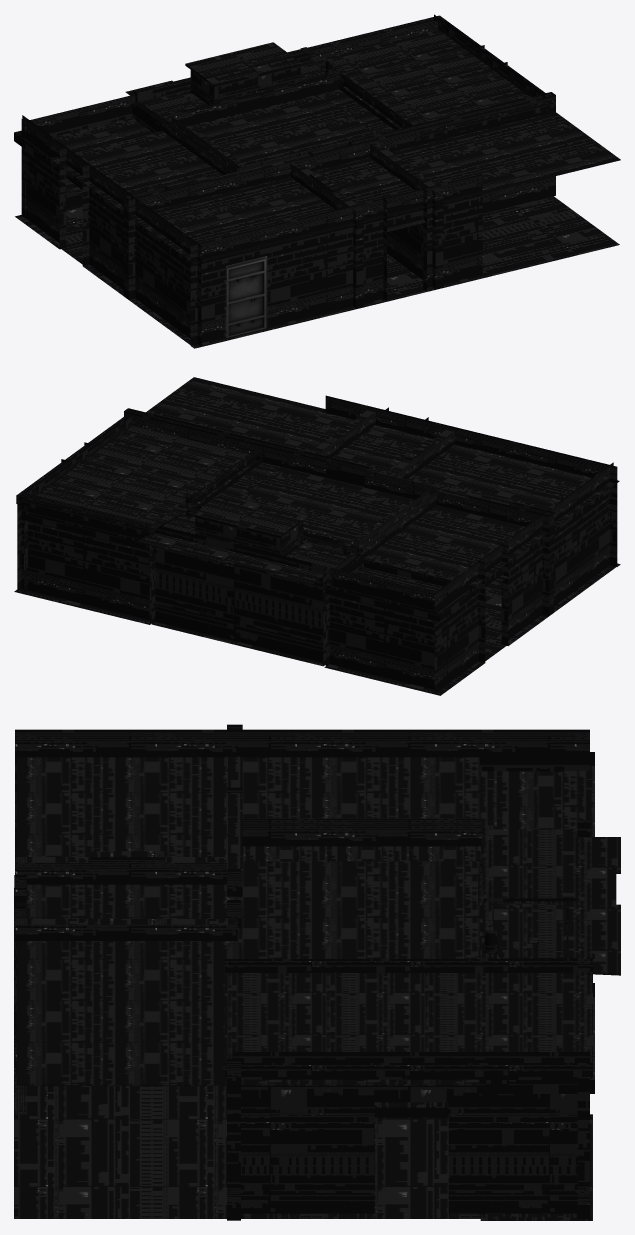
The model's file is room3gw_opt.obj.
The picture shows the model from 3 angles, top to bottom: view 1: azimuth 30°, elevation 25°; view 2: azimuth 150°, elevation 25°; view 3: azimuth 270°, elevation 25°; orthographic projection. The views are drawn at different scales.
Bounding box in the file's own units: 2063 × 553 × 1579.
